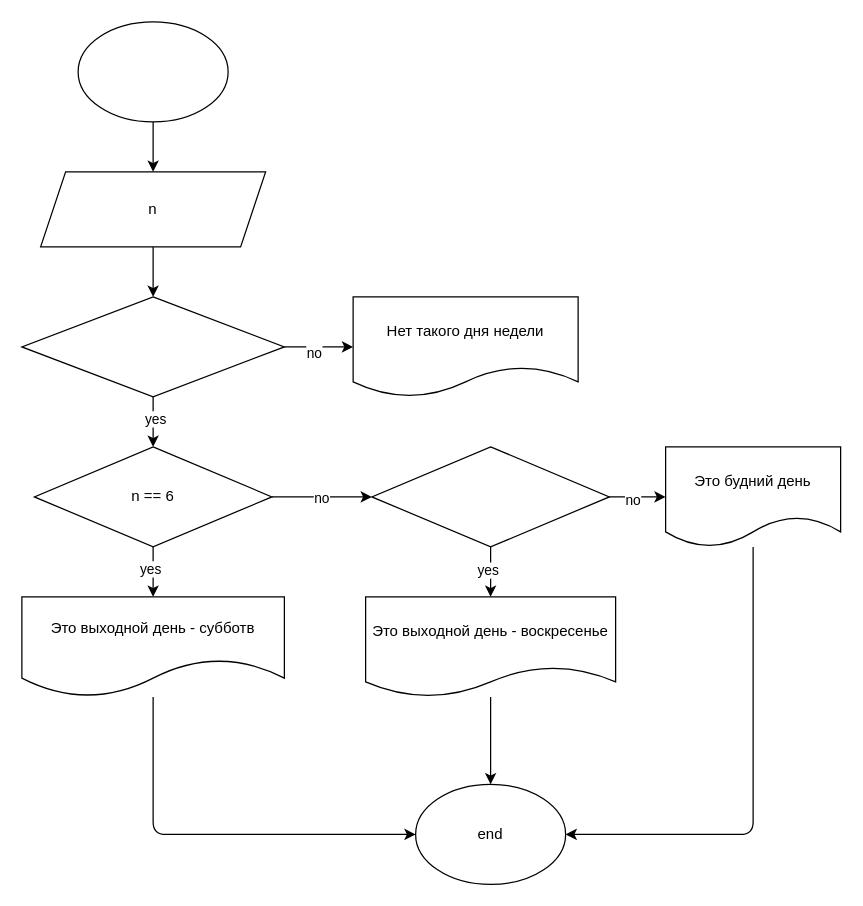
This 863x906 diagram has some shape labels left out. The shapes that lost their labels are listed below. From the top down, each one's centre as x and y in pixels, then its label:
At (x=152, y=71): "start".
At (x=152, y=346): "n < 8".
At (x=490, y=496): "n == 7".
